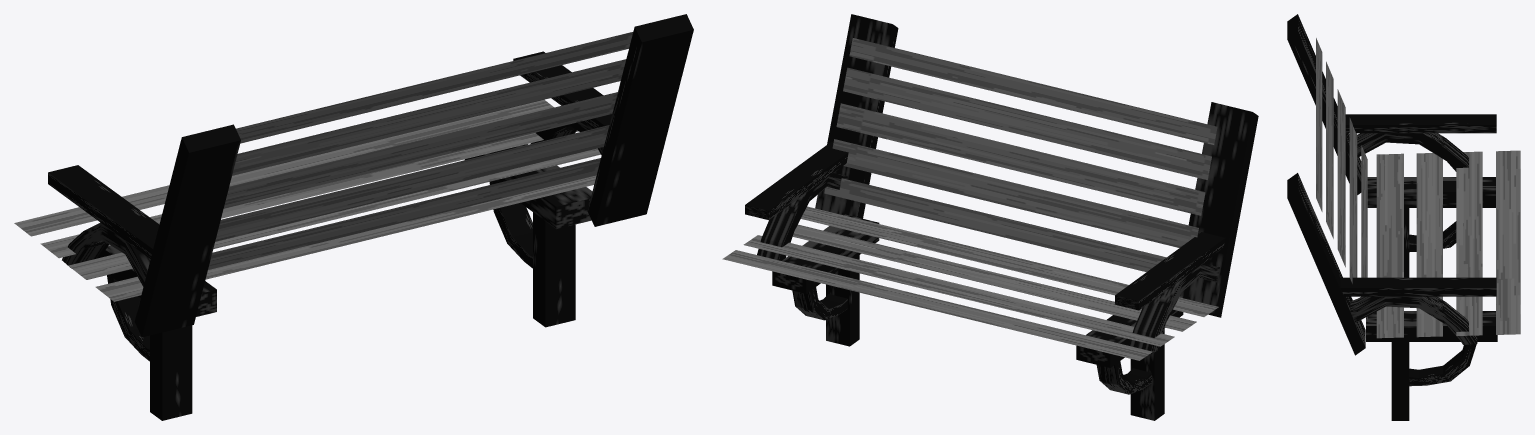
The model's file is Bench.fbx.
The picture shows the model from 3 angles, left to right: view 1: azimuth 30°, elevation 25°; view 2: azimuth 150°, elevation 25°; view 3: azimuth 270°, elevation 25°; orthographic projection. The views are drawn at different scales.
Visible parts, largest first — view 1: Plane.012, Cube.003, Plane.013, Cube.001, Cube.005, Cube, Cube.002, Cube.004; view 2: Plane.012, Plane.013, Cube.003, Cube.005, Cube.004, Cube.001, Cube, Cube.002; view 3: Plane.013, Plane.012, Cube.005, Cube.003, Cube.004, Cube, Cube.001, Cube.002.
Part boxes in pixels (<box>): Plane.012: <box>208,32,633,269</box>; Cube.003: <box>134,14,693,337</box>; Plane.013: <box>14,99,600,301</box>; Cube.001: <box>150,212,575,420</box>; Cube.005: <box>48,51,612,258</box>; Cube: <box>101,144,592,316</box>; Cube.002: <box>107,181,532,361</box>; Cube.004: <box>62,121,603,286</box>; Plane.012: <box>824,38,1217,271</box>; Plane.013: <box>722,206,1218,360</box>; Cube.003: <box>815,14,1258,317</box>; Cube.005: <box>745,141,1225,310</box>; Cube.004: <box>757,173,1219,355</box>; Cube.001: <box>826,255,1164,420</box>; Cube: <box>772,214,1183,367</box>; Cube.002: <box>792,287,1151,394</box>; Plane.013: <box>1376,150,1520,338</box>; Plane.012: <box>1316,38,1367,319</box>; Cube.005: <box>1340,114,1496,296</box>; Cube.003: <box>1287,14,1365,355</box>; Cube.004: <box>1350,133,1477,344</box>; Cube: <box>1366,177,1497,341</box>; Cube.001: <box>1391,208,1409,420</box>; Cube.002: <box>1409,221,1476,386</box>.
Size of the model in its own units: 124 by 77.42 by 66.48.
